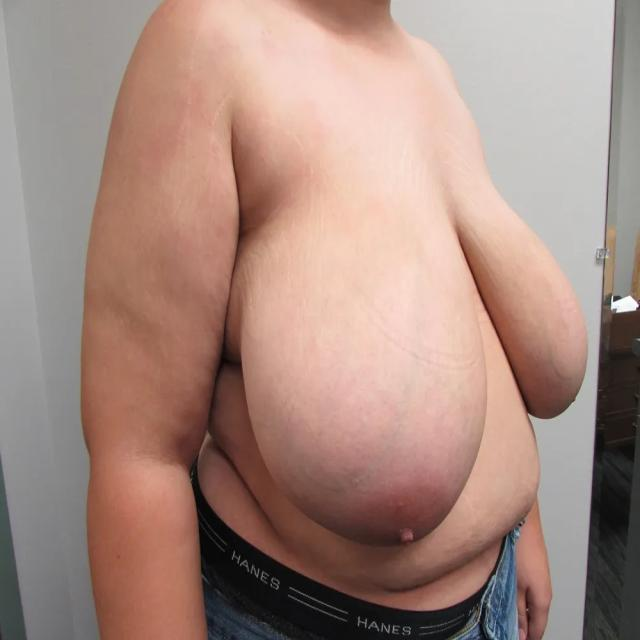Seno ileso: (232, 168, 491, 578), (493, 171, 607, 440)
